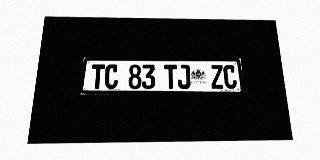3: (142, 65, 155, 89)
8: (128, 64, 142, 89)
C: (104, 64, 119, 89), (223, 65, 237, 89)
J: (177, 65, 191, 89)
T: (90, 64, 105, 89), (164, 65, 177, 89)
Z: (210, 65, 224, 89)
